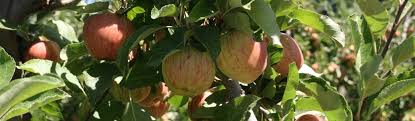tao: (217, 25, 268, 83), (162, 47, 215, 102), (83, 11, 130, 64), (270, 30, 310, 83), (25, 42, 62, 72)
